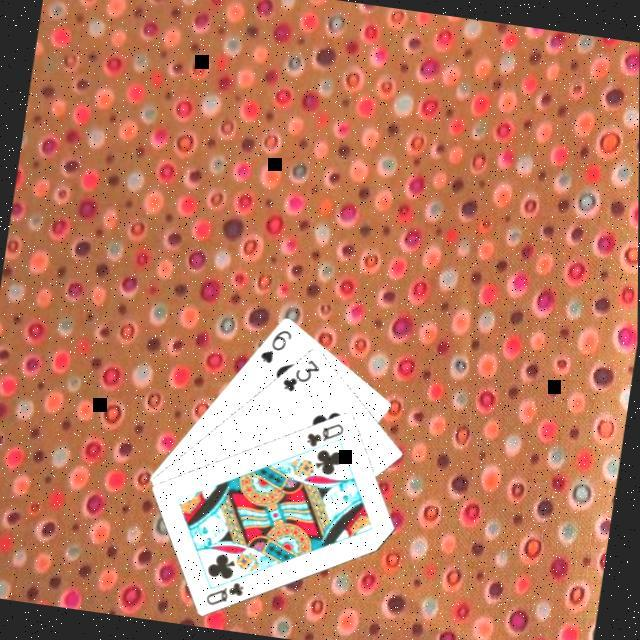3C: (276, 349, 324, 396)
6S: (255, 321, 295, 366)
QC: (301, 412, 347, 452), (201, 571, 247, 611)
